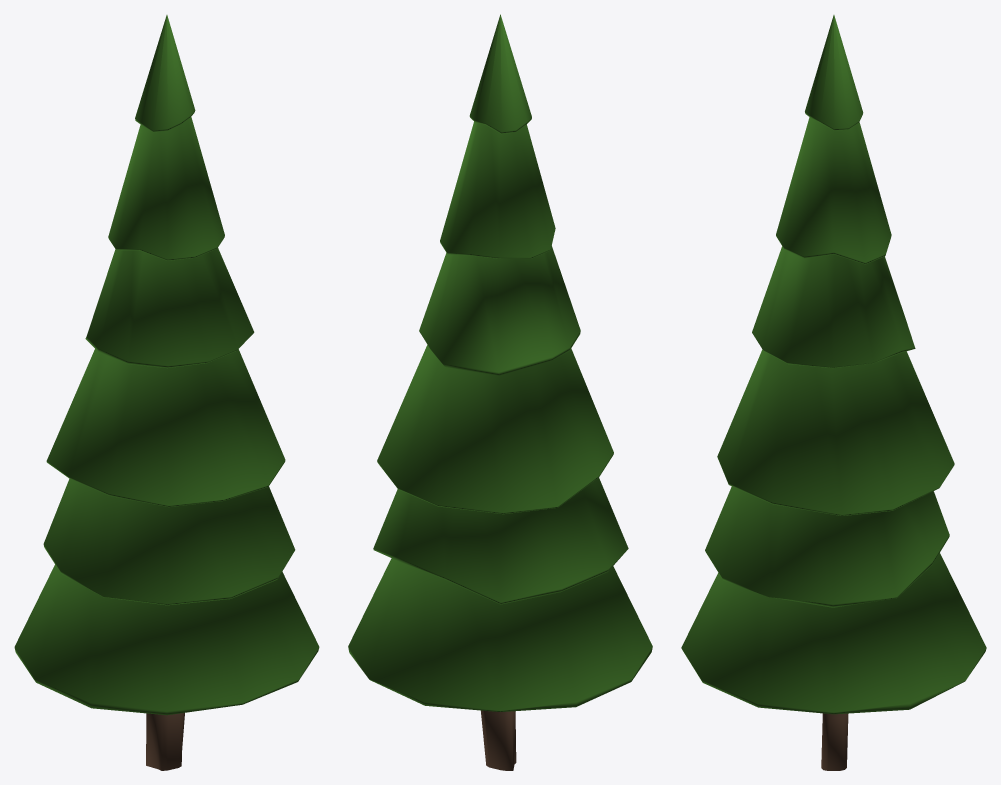
File: Tree.fbx
3 renders of one model, left to right at view 1: azimuth 30°, elevation 25°; view 2: azimuth 150°, elevation 25°; view 3: azimuth 270°, elevation 25°, orthographic.
Parts seen in each view (by area): view 1: Cube; view 2: Cube; view 3: Cube.
Part boxes in pixels (left/top/right/bottom): Cube: left=14, top=15, right=319, bottom=770; Cube: left=348, top=14, right=652, bottom=770; Cube: left=681, top=15, right=986, bottom=770.
Size of the model in its own units: 2.49 by 6.77 by 2.49.
